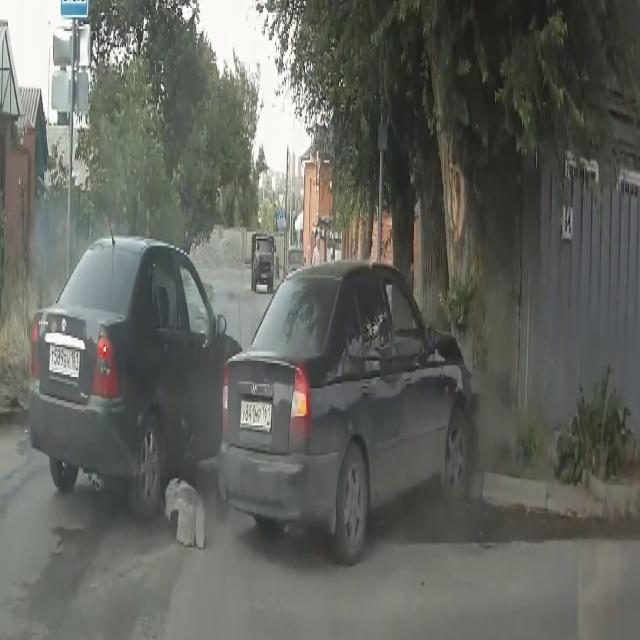accident: (226, 213, 497, 579)
